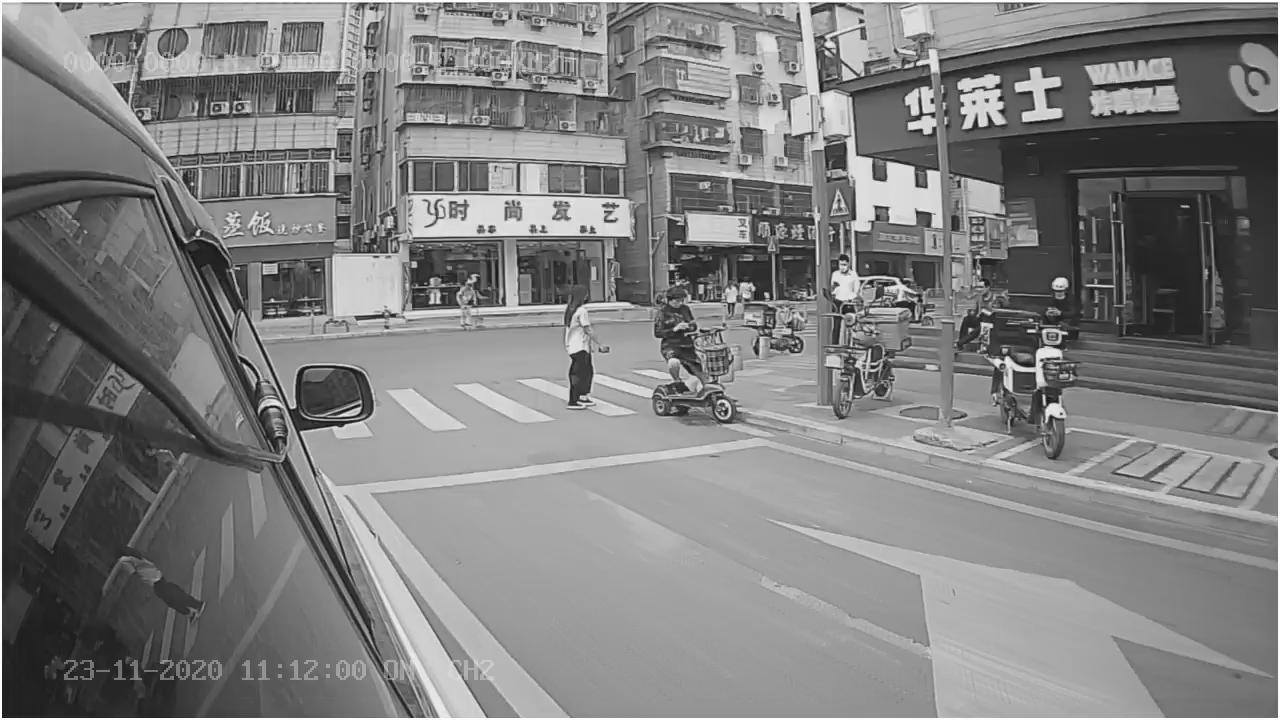person: (546, 274, 615, 414)
